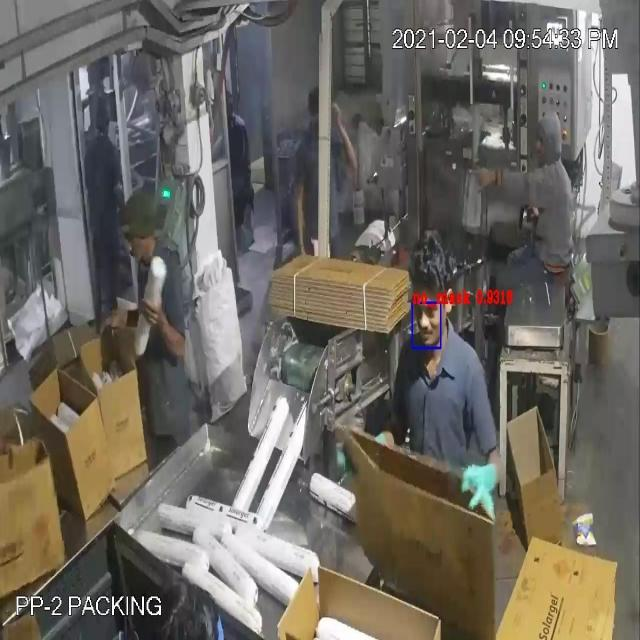No_Gloves: (28, 68, 475, 486)
